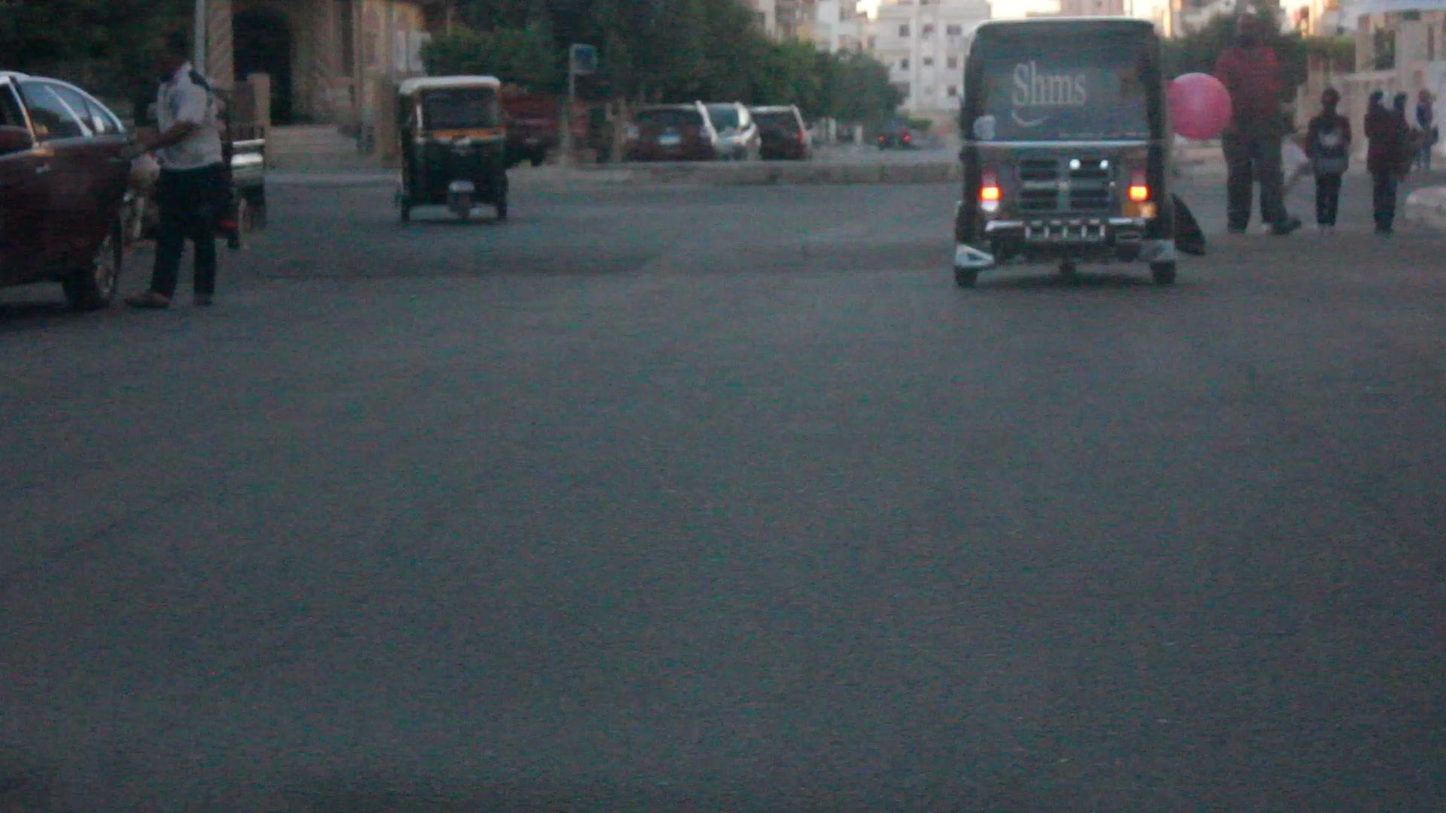Bump: (228, 228, 955, 279), (1182, 224, 1446, 273)
